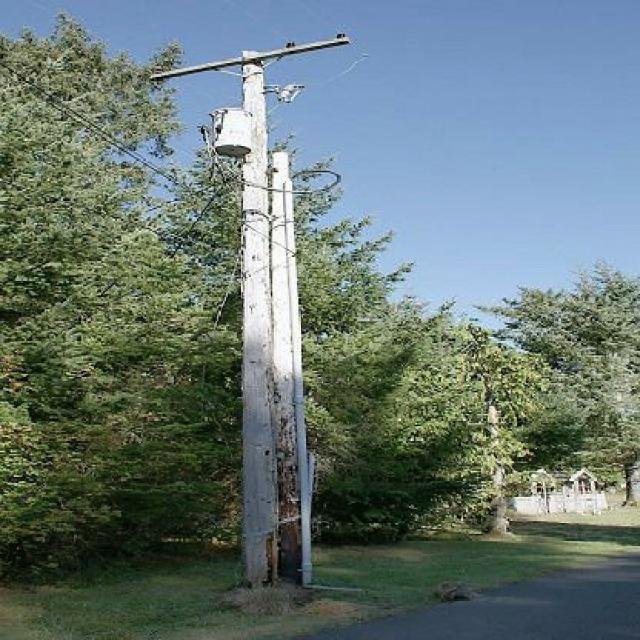crossarm: (149, 34, 352, 83)
pole: (238, 65, 277, 586), (272, 151, 312, 586)
transformer: (210, 107, 252, 158)
wire: (0, 61, 297, 258), (35, 92, 201, 199), (210, 146, 342, 195), (169, 179, 227, 261)
